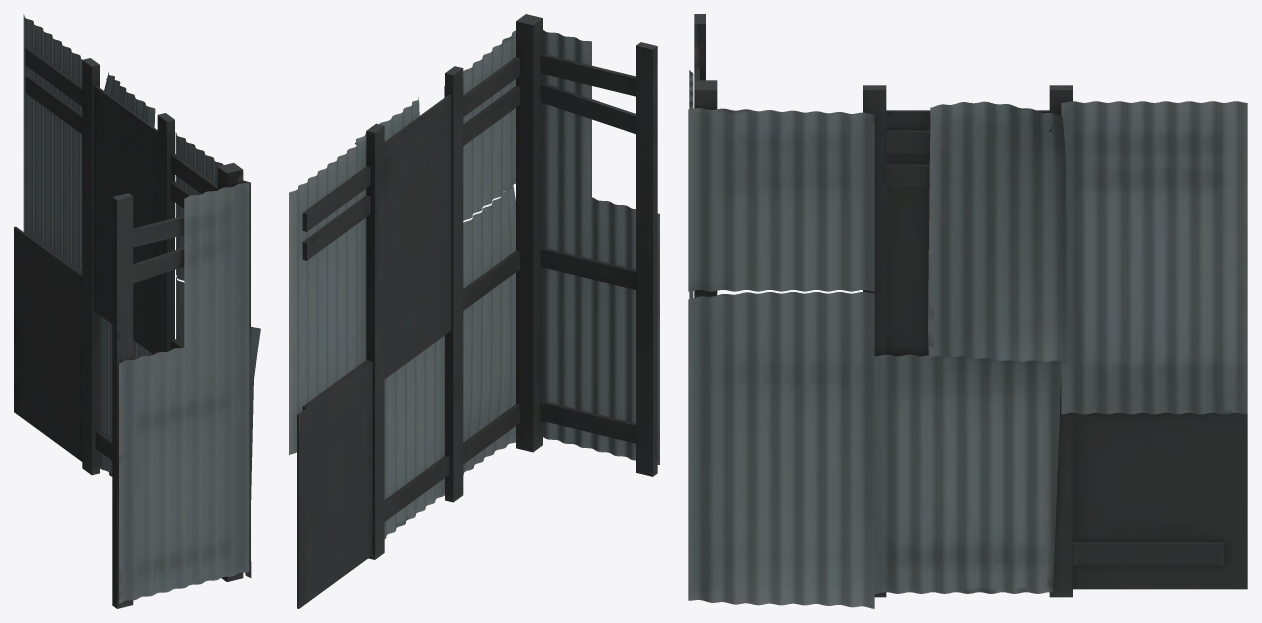
3 views of the same model, side by side, from view 1: azimuth 30°, elevation 25°; view 2: azimuth 150°, elevation 25°; view 3: azimuth 270°, elevation 25° (orthographic). The views are drawn at different scales.
Visible parts, largest first — view 1: body0_model0_lod0_mesh0; view 2: body0_model0_lod0_mesh0; view 3: body0_model0_lod0_mesh0.
Part boxes in pixels (x1,y1,x2,y2): body0_model0_lod0_mesh0: (14, 14, 260, 608); body0_model0_lod0_mesh0: (289, 14, 659, 608); body0_model0_lod0_mesh0: (688, 14, 1247, 608).
Bounding box in the file's own units: 71.61 × 192 × 192.
1 material, 1 textured.
